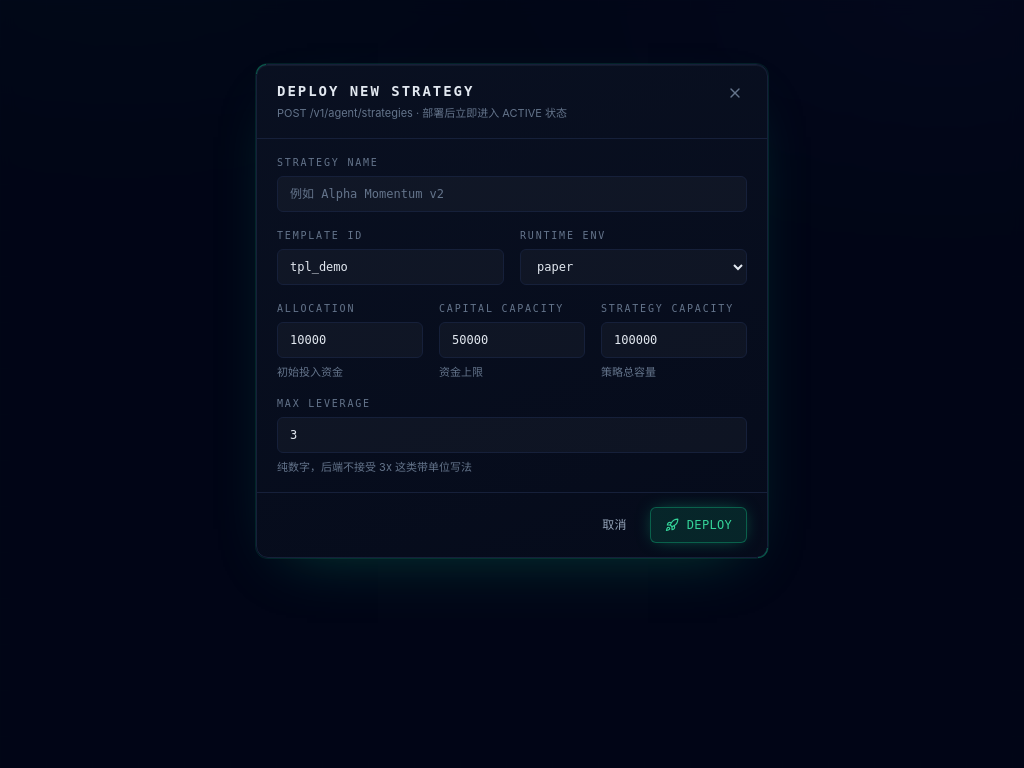
Test: CreateStrategyModal › 提交失败时展示上游错误且不关闭弹窗
The image size is (1024, 768).
Type "Alpha" into the field labelled "Strategy Name" at (512, 194), box [277,176,747,212]
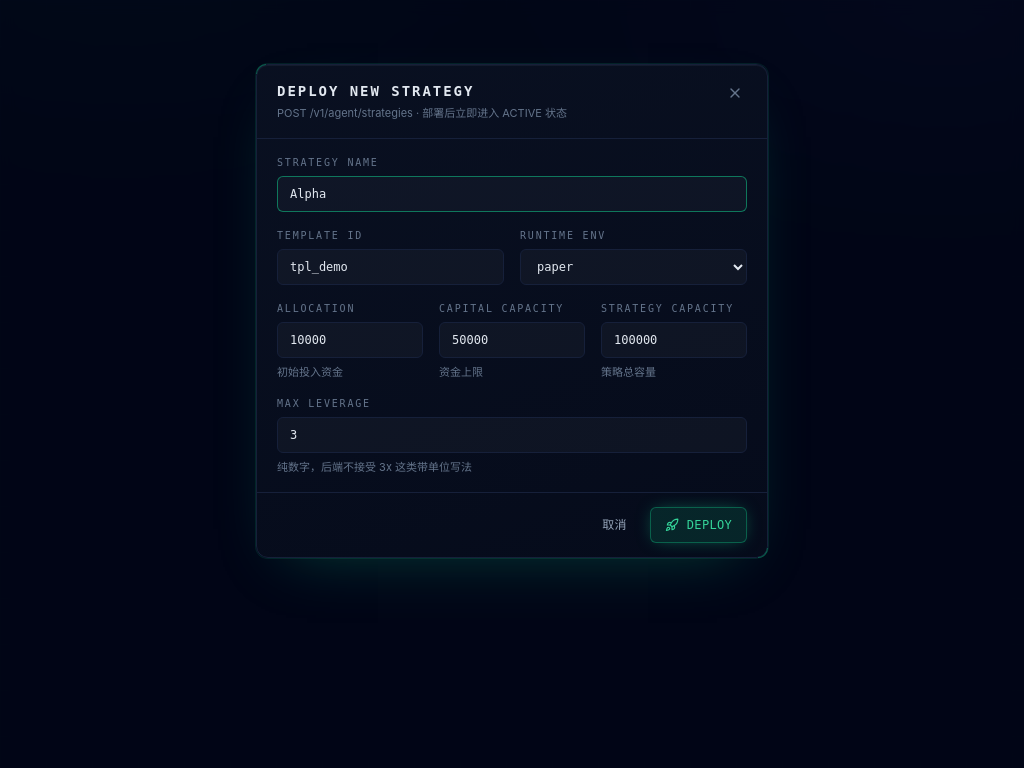
Click the button "DEPLOY" at (698, 524), box [650,506,747,542]
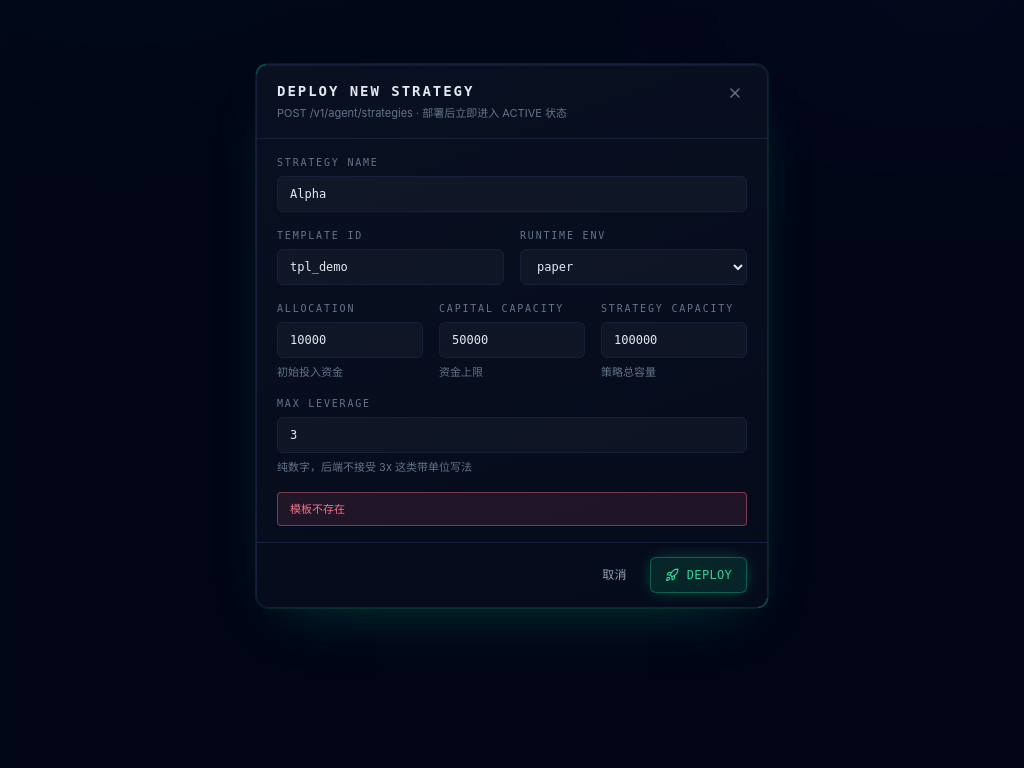
Expected: the message reads "模板不存在", [290,502,345,516]
